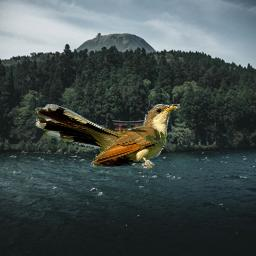Cuckoo: (35, 104, 180, 168)
